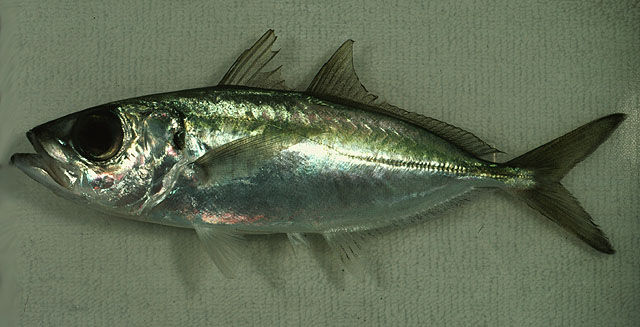fish: (9, 28, 630, 280)
